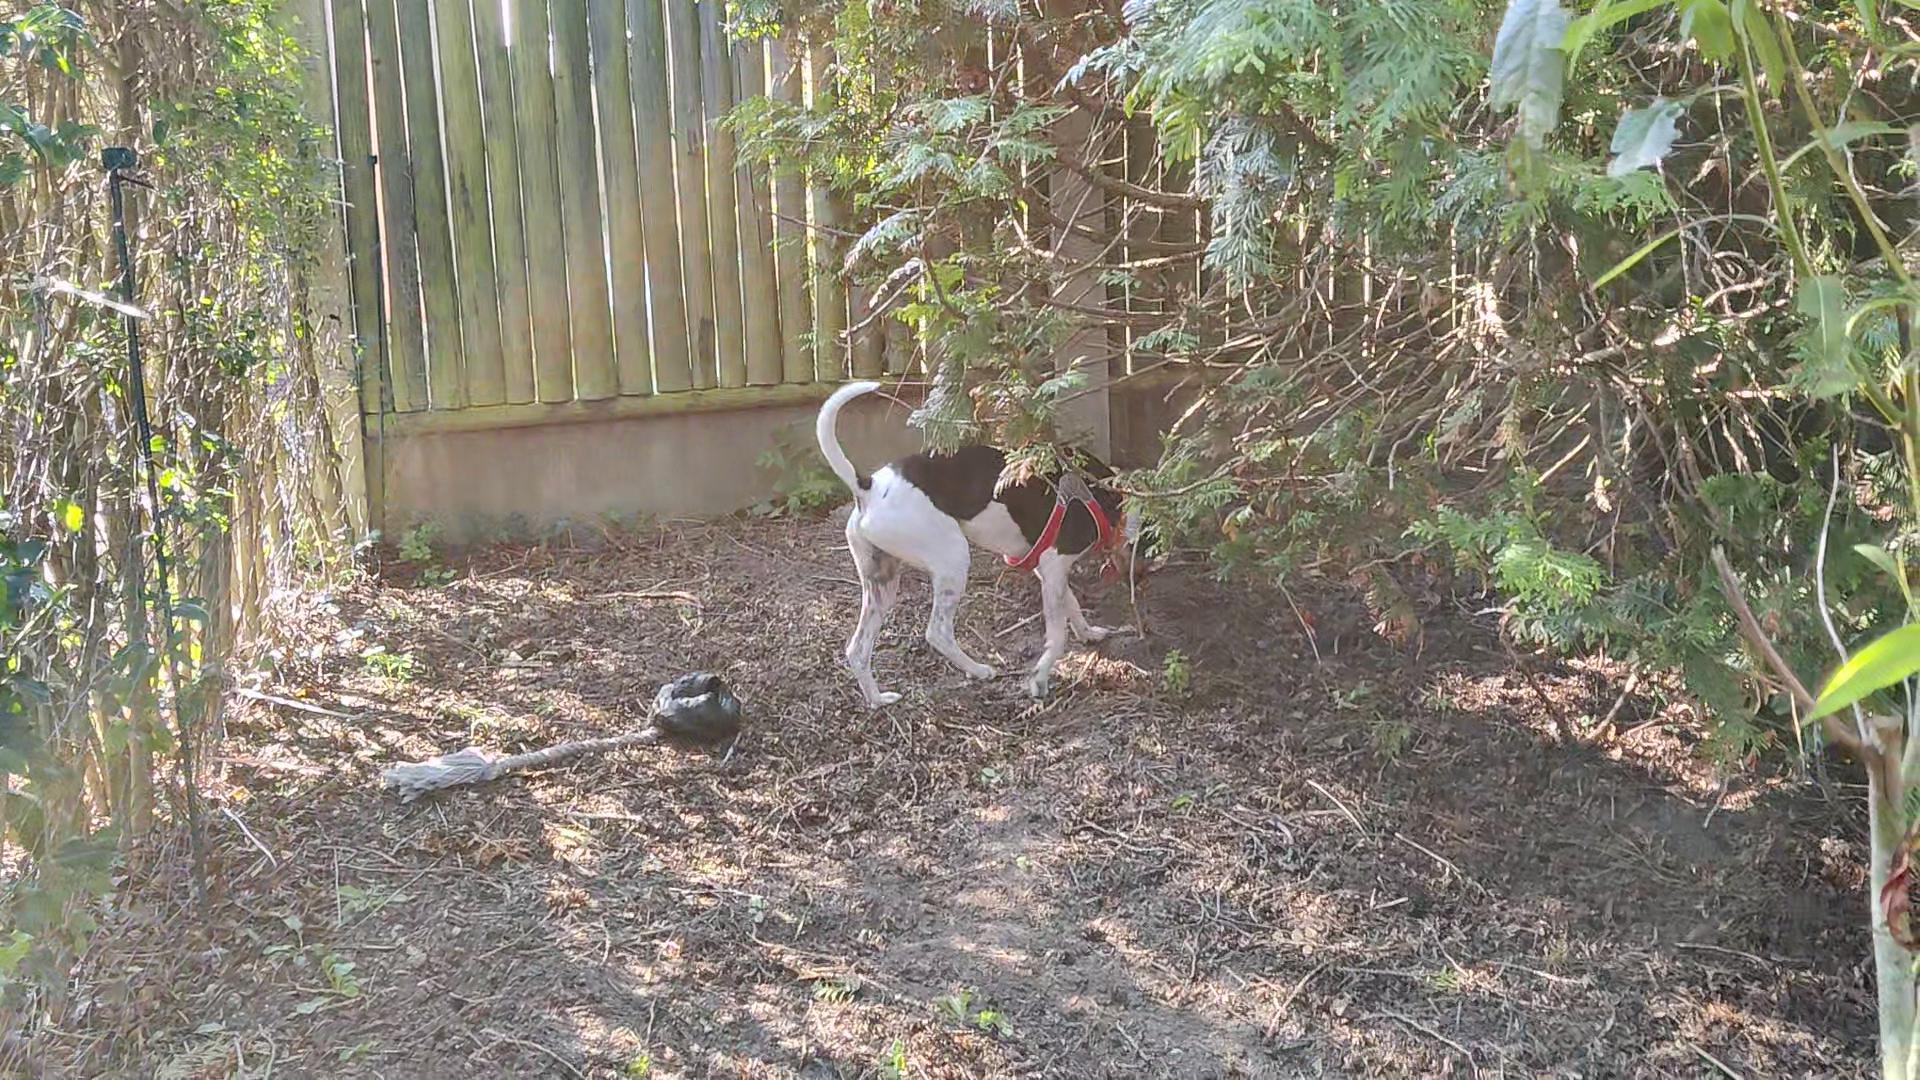Dog: (811, 373, 1178, 712)
